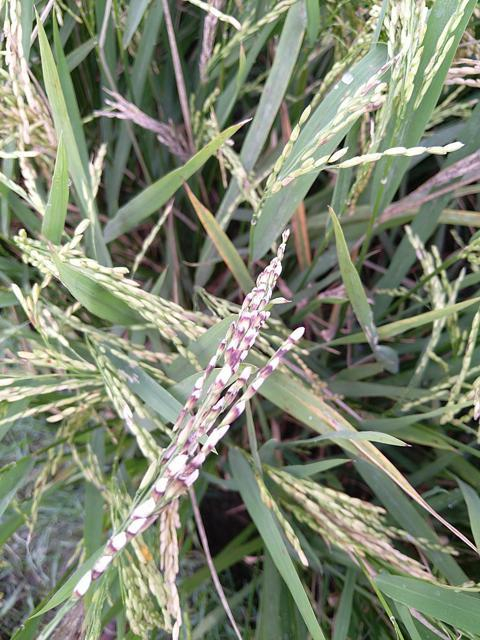Panicle Blight: (73, 254, 305, 599), (280, 481, 426, 568), (355, 61, 392, 97), (130, 346, 178, 370), (238, 167, 258, 207), (170, 311, 215, 326), (317, 132, 337, 146), (362, 102, 382, 113), (161, 324, 175, 339), (44, 357, 55, 371), (34, 481, 42, 492)
